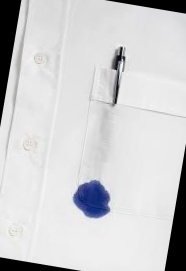ink: (71, 178, 114, 220)
